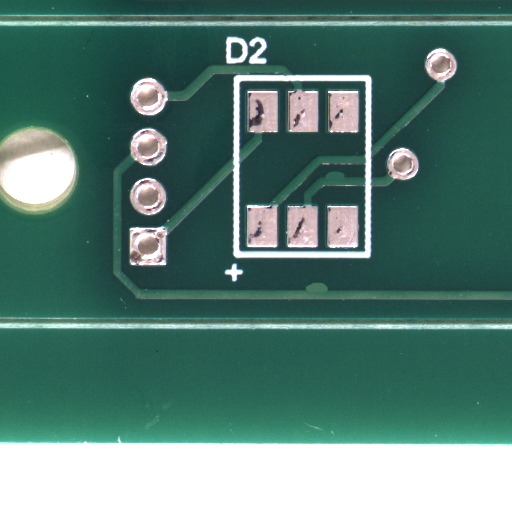Spur: (314, 287, 343, 301), (334, 175, 361, 186)
